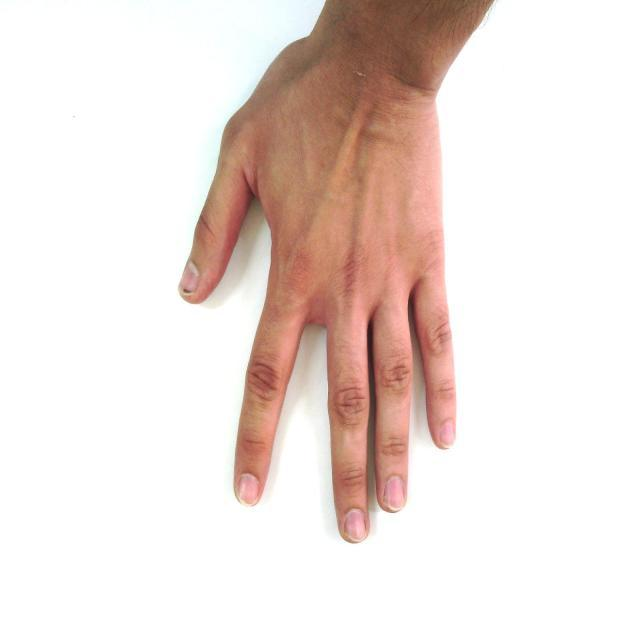Fingernail: (383, 476, 404, 510), (345, 509, 366, 541), (239, 474, 258, 505), (180, 263, 198, 291), (441, 423, 454, 448)
